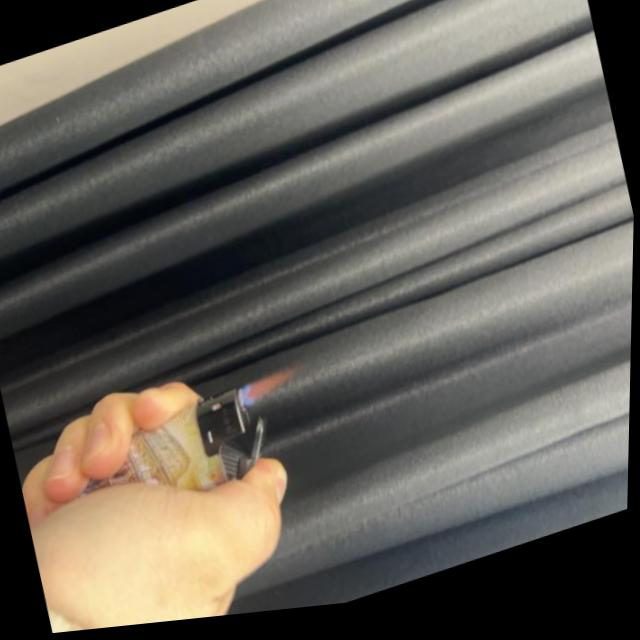Fire: (238, 370, 304, 414)
